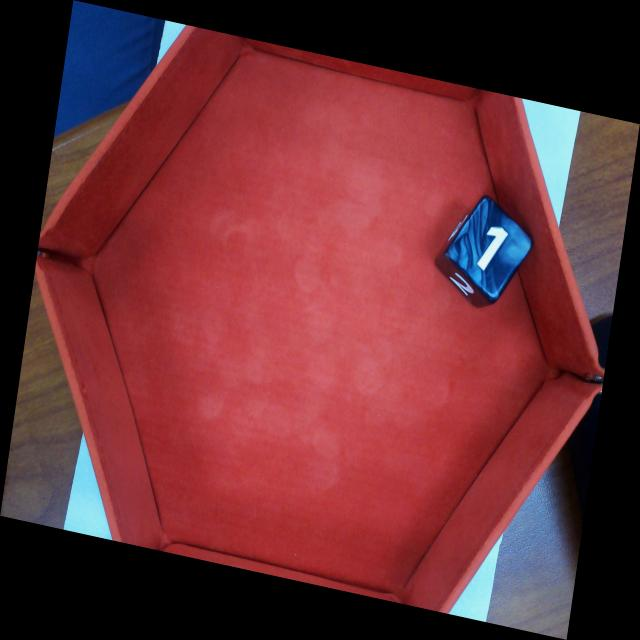dice: (448, 195, 535, 300)
